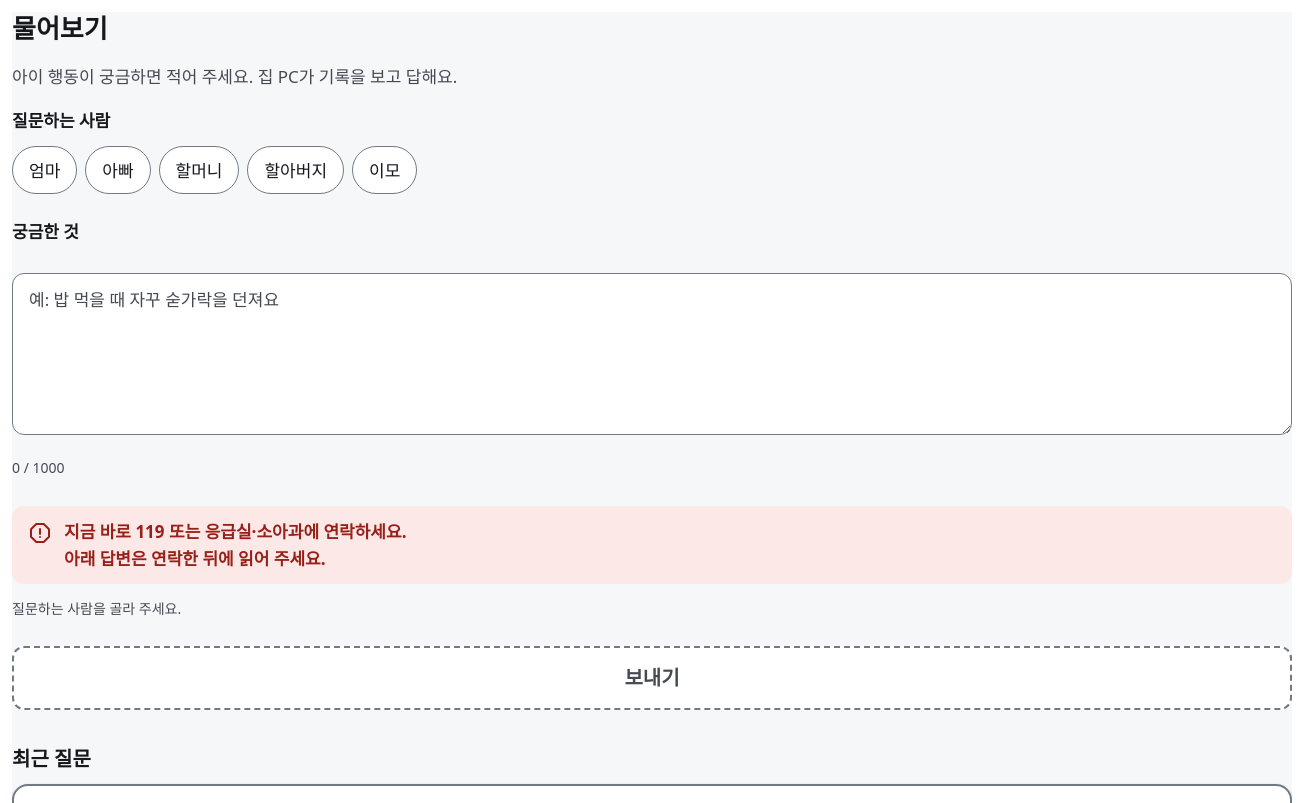
Scenario: AskPage (S50 입력·목록) › 너무 많이 보냈으면(429) 안내하고 글을 지우지 않는다
Click the button "엄마" at (45, 170), box [12,146,77,194]
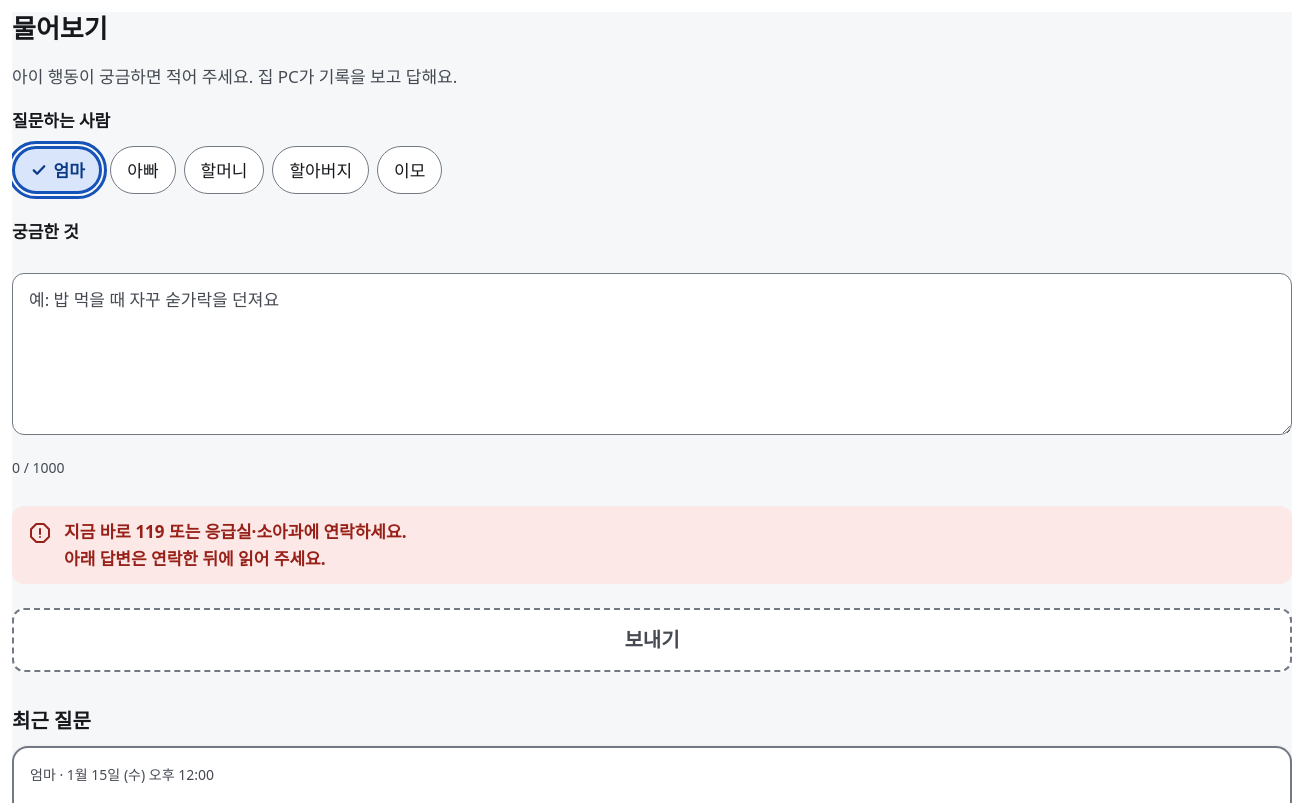
Type "합성 질문" into the text box labelled "궁금한 것" at (652, 354), box [12,273,1292,435]
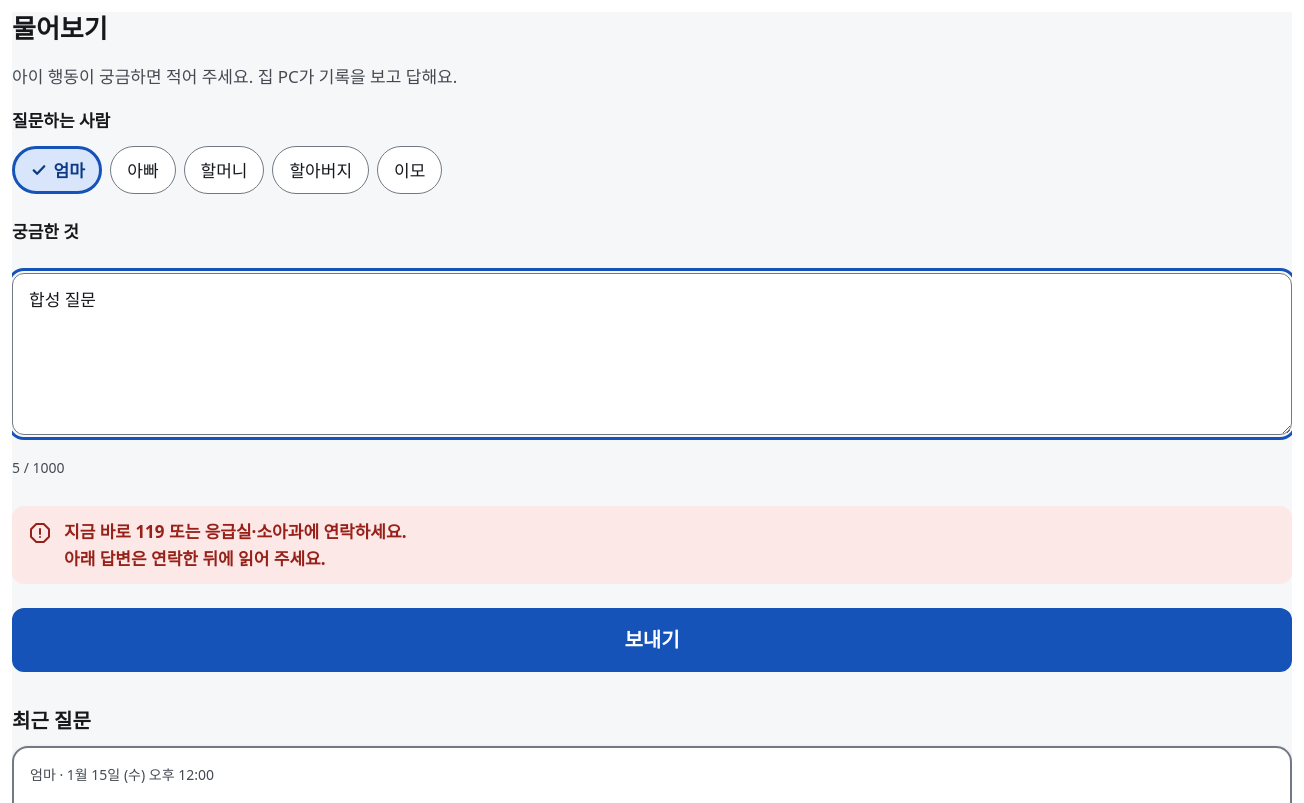
Click the button "보내기" at (652, 640), box [12,608,1292,672]
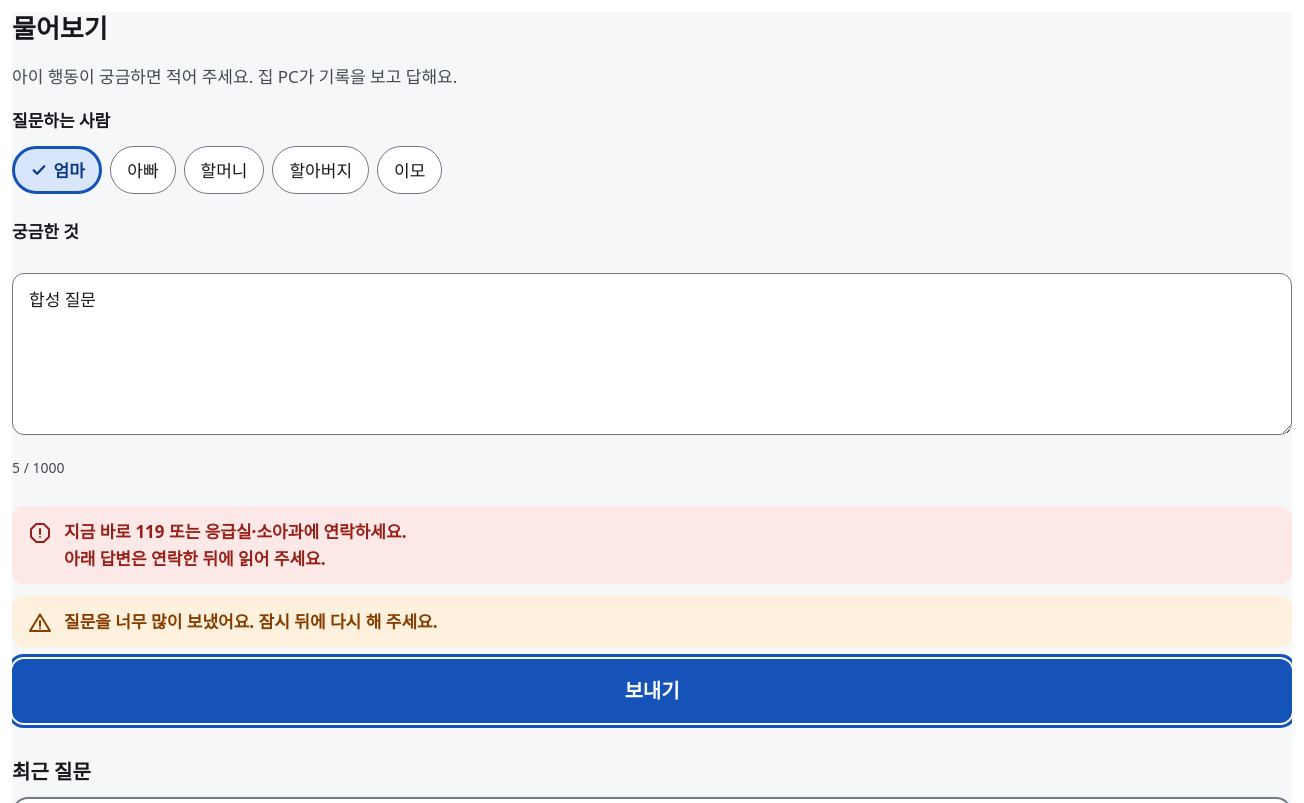
Now the text "질문을 너무 많이 보냈어요." is shown, box [64,610,254,633]
